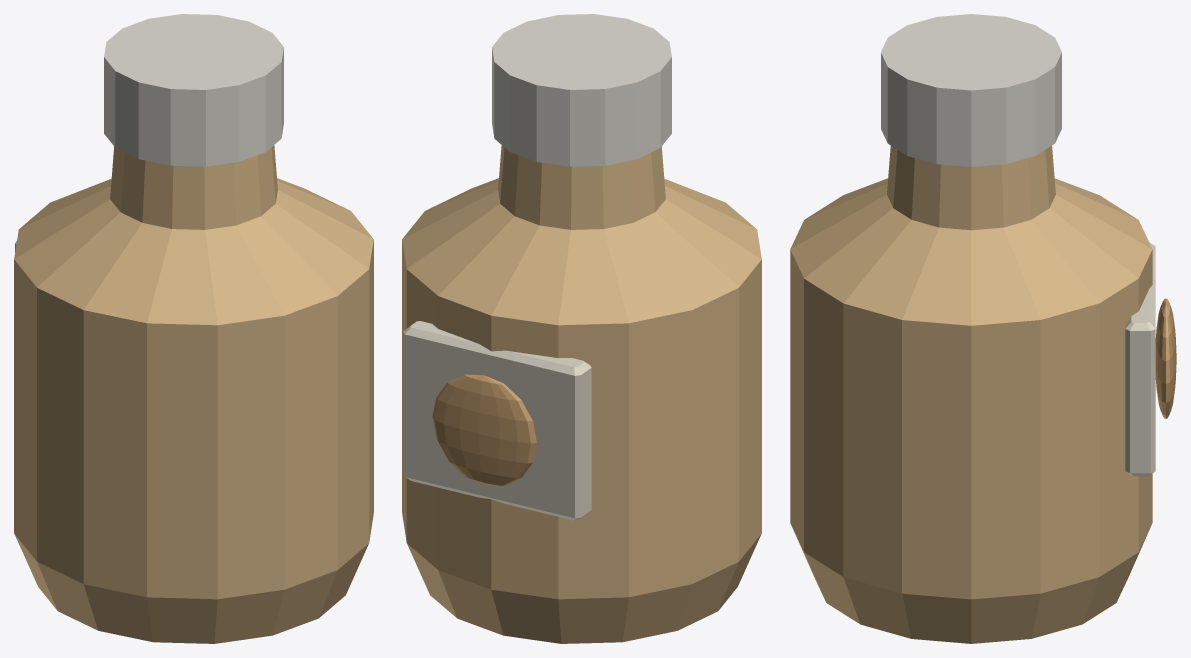
Rendered from juice.glb.
3 views of the same model, side by side, from view 1: azimuth 30°, elevation 25°; view 2: azimuth 150°, elevation 25°; view 3: azimuth 270°, elevation 25° (orthographic).
Visible parts, largest first — view 1: juice; view 2: juice; view 3: juice.
Part boxes in pixels (x1,y1,x2,y2): juice: (14, 14, 373, 643); juice: (402, 14, 761, 643); juice: (790, 14, 1176, 643).
Size of the model in its own units: 0.3 by 0.48 by 0.32.
